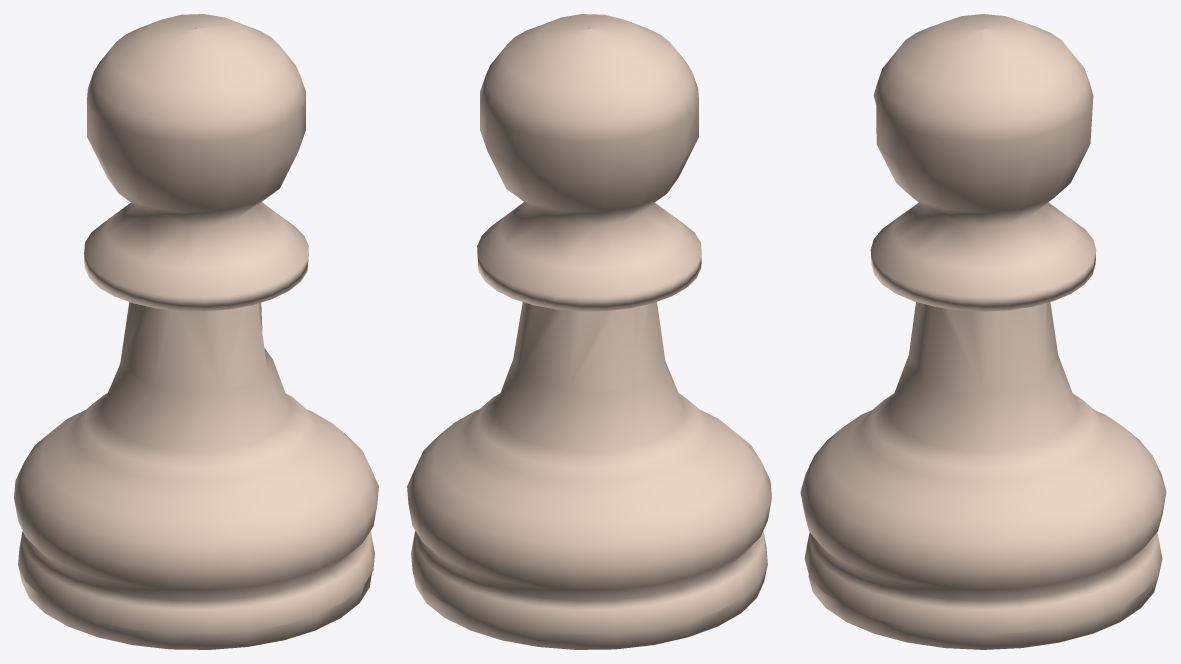
File: Pawn.fbx
3 renders of one model, left to right at view 1: azimuth 30°, elevation 25°; view 2: azimuth 150°, elevation 25°; view 3: azimuth 270°, elevation 25°, orthographic.
Visible parts, largest first — view 1: Pawn; view 2: Pawn; view 3: Pawn.
Part boxes in pixels (x1,y1,x2,y2): Pawn: [14, 14, 378, 649]; Pawn: [407, 14, 771, 649]; Pawn: [800, 14, 1166, 649].
Bounding box in the file's own units: 3.69 × 6.11 × 3.69.
